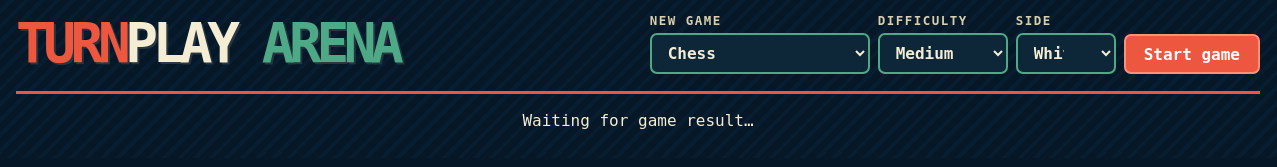
it: App › keeps bootstrap notifications closed after an explicit Start Game fails
The image size is (1277, 167).
Click the button "Start game" at (1192, 54), box x1=1124 y1=34 x2=1260 y2=74
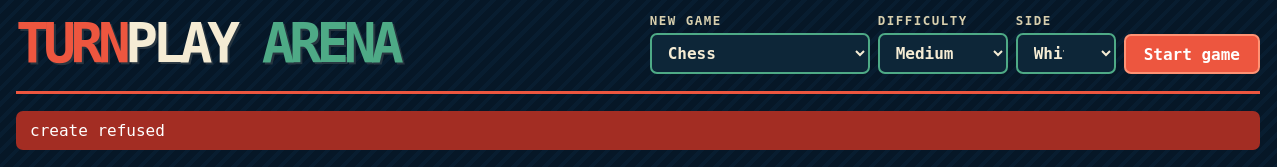
expect the message reads "create refused": met, box x1=30 y1=121 x2=165 y2=140
